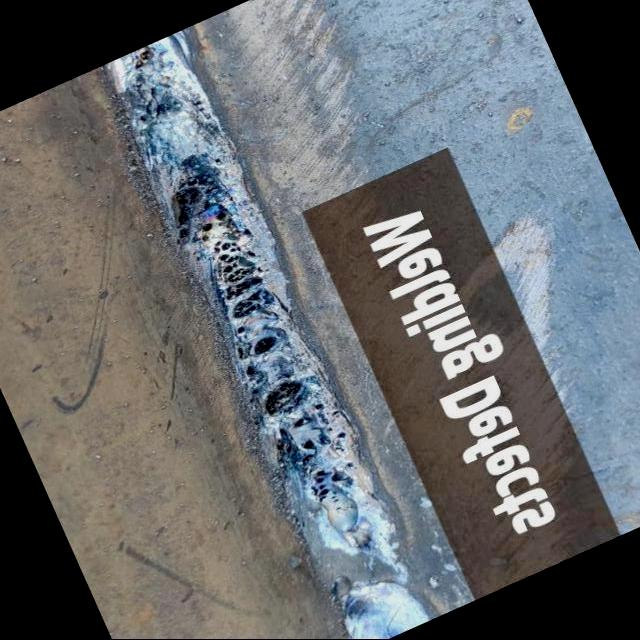defect: (170, 173, 277, 320), (307, 461, 360, 517), (261, 379, 307, 421), (235, 335, 276, 362), (139, 98, 173, 126), (269, 424, 294, 458), (130, 47, 154, 72), (299, 439, 319, 469), (291, 418, 315, 431), (191, 99, 207, 116), (243, 366, 258, 377), (235, 325, 246, 338), (330, 410, 345, 418), (323, 426, 337, 434), (333, 446, 347, 454), (314, 403, 326, 412), (335, 432, 347, 439), (250, 389, 261, 395), (213, 158, 220, 166)
